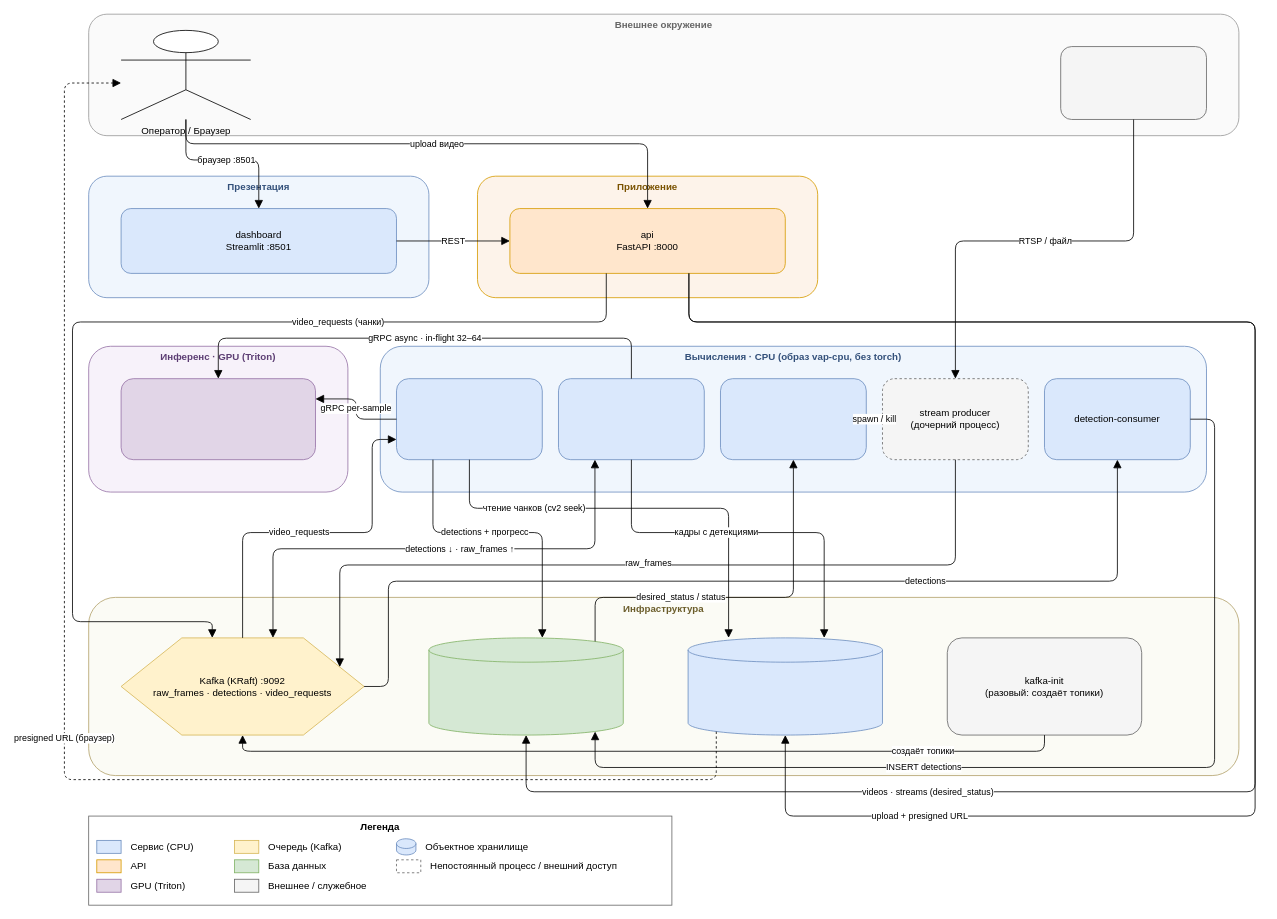
Image size: 1277x919. Some labels were removed from this diagram. Here are the shapes that lost their labels. From the top down, the centre of each, then its label:
pixel 1133 82: Камера / RTSP-источник (MediaMTX :8554)
pixel 217 419: Triton Inference Server :8001 gRPC · TensorRT engine (YOLOv8, NMS в графе) · GPU
pixel 469 419: video-consumer ×2 presigned-read → Triton
pixel 631 419: yolo-consumer ×2 async → Triton
pixel 793 419: stream-manager reconcile loop
pixel 525 686: PostgreSQL 16 :5432 videos · streams · video_detections · stream_detections
pixel 784 686: MinIO (S3) :9000/:9001 videos · frames
